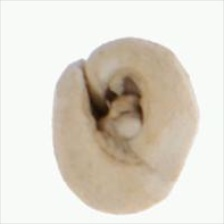L3: (84, 72, 148, 150)
L4: (53, 37, 199, 214)
